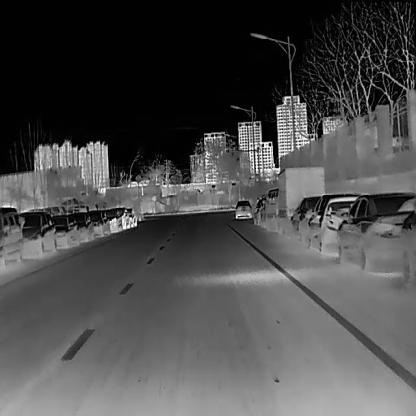car: (336, 191, 415, 273), (274, 166, 324, 232), (307, 192, 359, 254), (19, 210, 56, 257), (0, 206, 25, 267), (290, 194, 320, 243), (52, 214, 80, 249), (71, 211, 95, 242), (262, 188, 279, 230), (86, 209, 110, 237), (251, 194, 266, 225), (105, 208, 122, 232), (233, 199, 252, 217), (125, 207, 136, 228)
